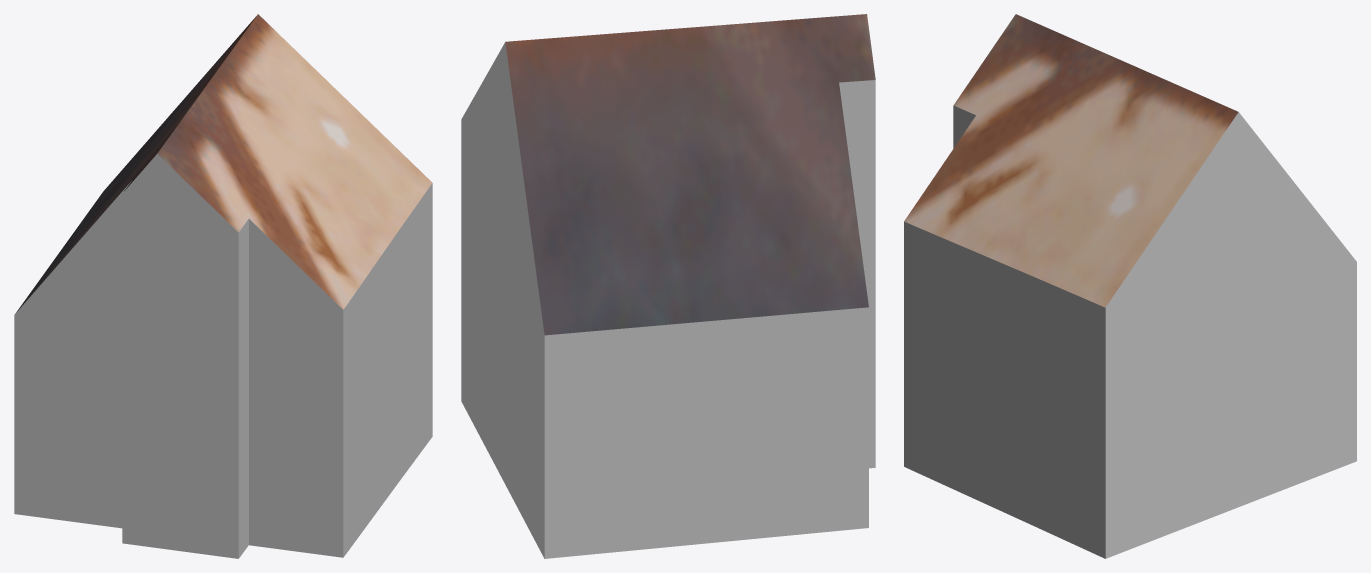
File: DEBW_0010007TxcW.gltf
The picture shows the model from 3 angles, left to right: view 1: azimuth 30°, elevation 25°; view 2: azimuth 150°, elevation 25°; view 3: azimuth 270°, elevation 25°; orthographic projection. The views are drawn at different scales.
Visible parts, largest first — view 1: Z_UP; view 2: Z_UP; view 3: Z_UP.
Boxes of the visible parts, x1,y1,x2,y2 form: Z_UP: (14, 14, 432, 558); Z_UP: (461, 14, 875, 558); Z_UP: (904, 14, 1356, 558).
Bounding box in the file's own units: 15.18 × 14.75 × 15.31.
2 materials, 1 textured.
